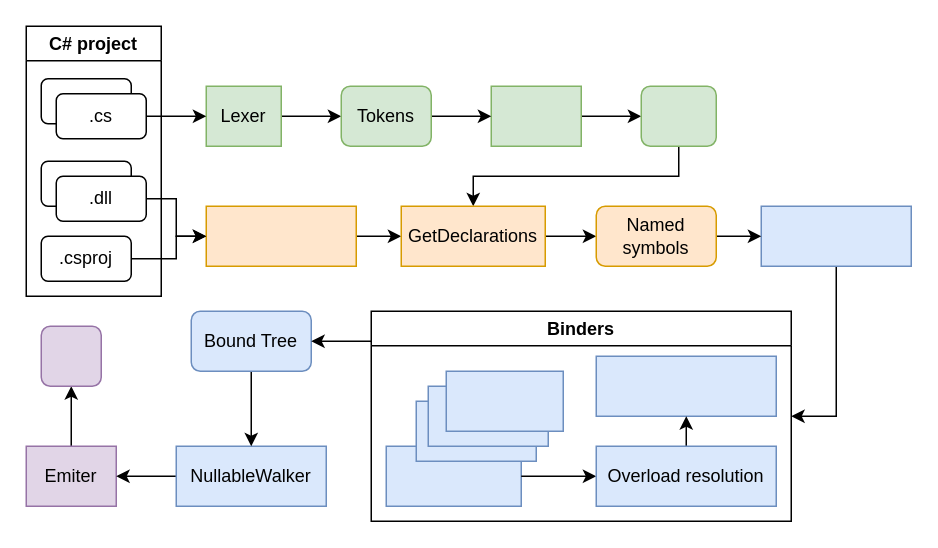
Some shapes in this 938 by 548 pixel diagram are drawn without their labels. The shapes that lost their labels are listed below. From the top down, each one's centre as x and y in pixels, then its label:
[535,115]: Parser
[678,115]: AST
[280,235]: MetadataLoader
[835,235]: CompileMethods
[70,355]: IL
[504,400]: Namespace binder
[685,385]: Method Type Inference
[453,475]: Method binder
